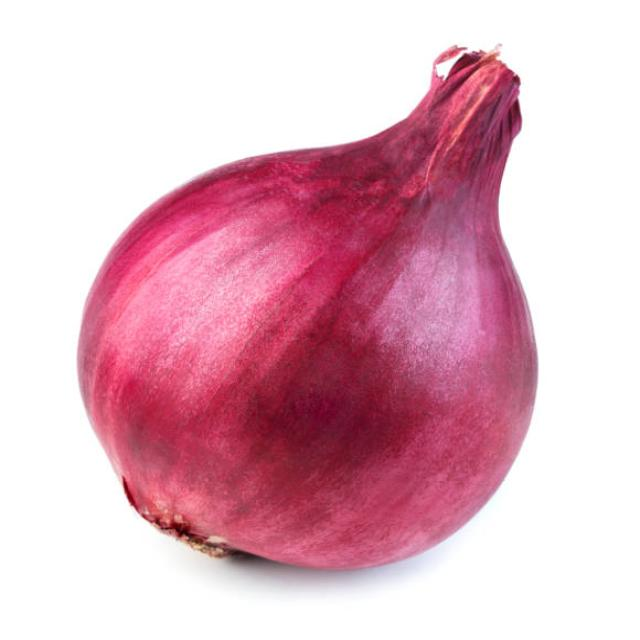onion: (69, 111, 544, 570)
